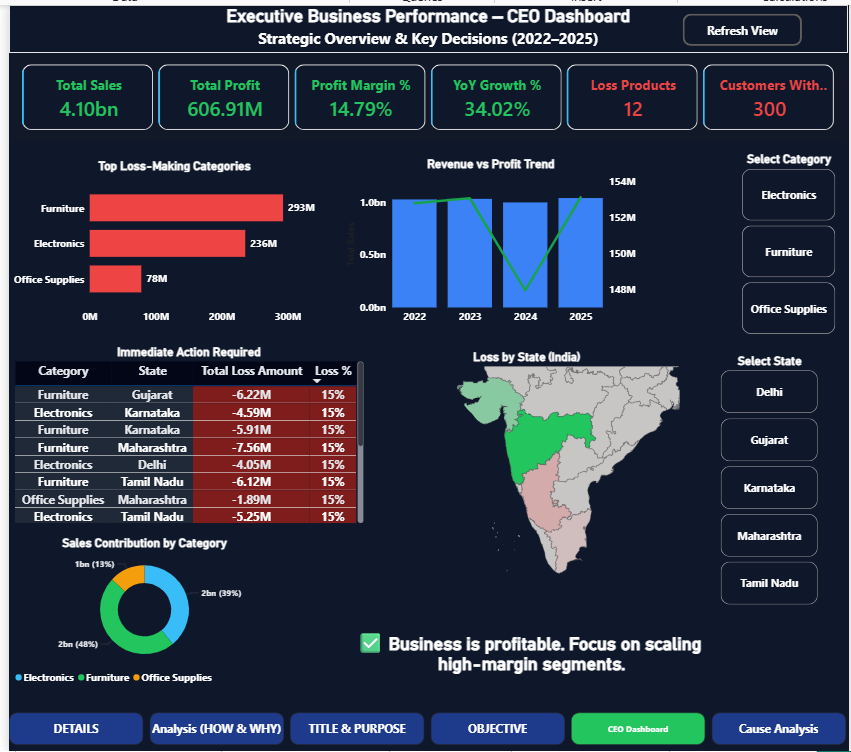

What the dashboard file says about the page in this screenshot:
{"tool":"powerbi","page":{"name":"CEO Dashboard","canvas":[1350,1200],"ordinal":4},"visuals":[{"type":"textbox","title":"Executive Business Performance – CEO Dashboard","box":[0,0,1349.2,75.6],"z":0},{"type":"cardVisual","fields":{"Data":["Sales_Fact_Table.Total Sales","Sales_Fact_Table.Total Profit","Sales_Fact_Table.Profit Margin %","Sales_Fact_Table.YoY Growth %","Customer_Table.Loss Products","Customer_Table.Loss Customers"]},"box":[4,78.4,1345.2,140.8],"z":1000},{"type":"clusteredBarChart","title":"Top Loss-Making Categories","fields":{"Y":["Sales_Fact_Table.Total Profit"],"Category":["Product_Table.Category"]},"box":[2,247.3,528.8,275.5],"z":2000},{"type":"tableEx","title":"Immediate Action Required","fields":{"Values":["Product_Table.Category","Customer_Table.State","Customer_Table.Loss Amount","Customer_Table.Loss %"]},"box":[4,546.9,571,291.6],"z":3000},{"type":"advancedSlicerVisual","title":"Select Category","fields":{"Values":["Product_Table.Category"]},"box":[1174.3,237.3,160.9,299.6],"z":5000},{"type":"actionButton","box":[1083.8,14.7,191.7,51.6],"z":6000},{"type":"pageNavigator","box":[0,1138.1,1349.2,52.3],"z":7000},{"type":"lineClusteredColumnComboChart","title":"Revenue vs Profit Trend","fields":{"Y":["Sales_Fact_Table.Total Sales"],"Category":["Calendar_Table.Year"],"Y2":["Sales_Fact_Table.Total Profit"]},"box":[536.9,245.3,476.5,277.5],"z":8000},{"type":"donutChart","title":"Sales Contribution by Category","fields":{"Y":["Sales_Fact_Table.Total Sales"],"Category":["Product_Table.Category"]},"box":[4,854.6,428.3,247.3],"z":9000},{"type":"advancedSlicerVisual","title":"Select State","fields":{"Values":["Customer_Table.State"]},"box":[1140.1,561,166.9,410.2],"z":10000},{"type":"shapeMap","title":"Loss by State (India)","fields":{"Value":["Sales_Fact_Table.Total Profit"],"Category":["Customer_Table.State_Map"]},"box":[581.1,555,502.7,382],"z":11000},{"type":"card","fields":{"Values":["Sales_Fact_Table.CEO Insight"]},"box":[454.4,993.3,772.1,96.5],"z":11001}]}

Visuals, with their boxes in screenshot pixels (x1, y1, x2, y2), scaled from the page's 1350x1200 canvas onto the 851x752 screenshot:
"Executive Business Performance – CEO Dashboard" textbox: bbox(0, 0, 850, 47)
cardVisual - Sales_Fact_Table.Total Sales x Sales_Fact_Table.Total Profit: bbox(3, 49, 850, 137)
"Top Loss-Making Categories" clusteredBarChart: bbox(1, 155, 335, 328)
"Immediate Action Required" tableEx: bbox(3, 343, 362, 525)
"Select Category" advancedSlicerVisual: bbox(740, 149, 842, 336)
actionButton: bbox(683, 9, 804, 42)
pageNavigator: bbox(0, 713, 850, 746)
"Revenue vs Profit Trend" lineClusteredColumnComboChart: bbox(338, 154, 639, 328)
"Sales Contribution by Category" donutChart: bbox(3, 536, 273, 691)
"Select State" advancedSlicerVisual: bbox(719, 352, 824, 609)
"Loss by State (India)" shapeMap: bbox(366, 348, 683, 587)
card - Sales_Fact_Table.CEO Insight: bbox(286, 622, 773, 683)
